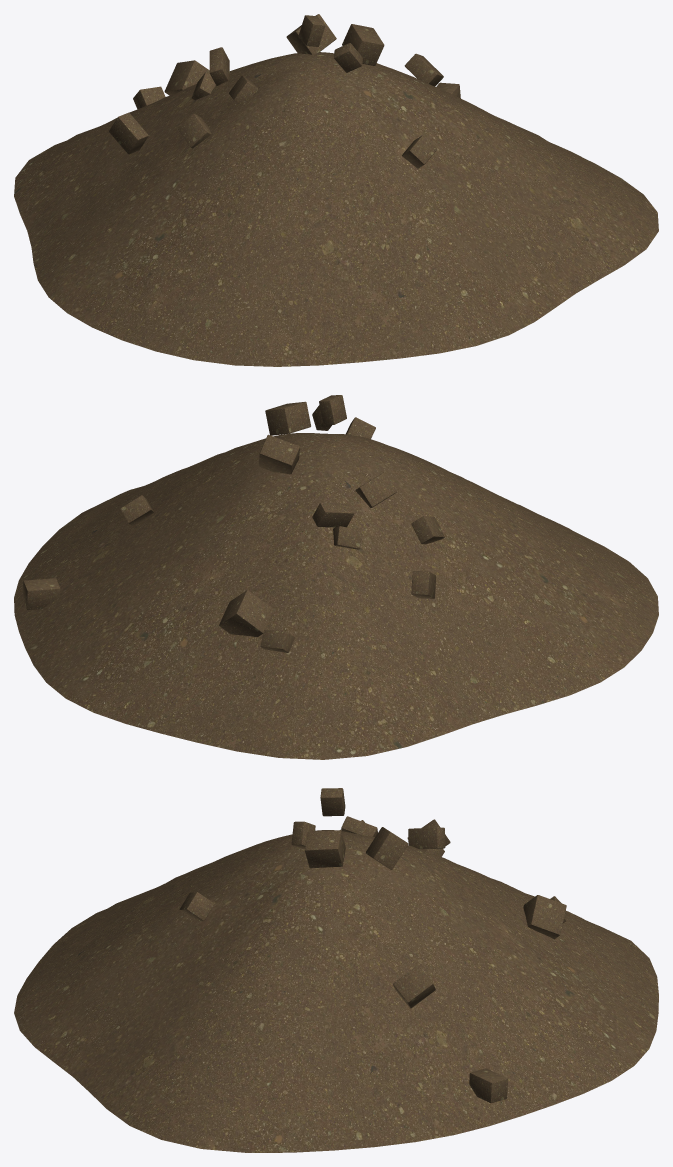
Rendered from TER-SOL-004.glb.
The picture shows the model from 3 angles, top to bottom: view 1: azimuth 30°, elevation 25°; view 2: azimuth 150°, elevation 25°; view 3: azimuth 270°, elevation 25°; orthographic projection. The views are drawn at different scales.
Visible parts, largest first — view 1: TER-SOL-004_monte, TER-SOL-004_caco4, TER-SOL-004_caco3, TER-SOL-004_caco2, TER-SOL-004_caco11, TER-SOL-004_caco6, TER-SOL-004_caco1, TER-SOL-004_caco13, TER-SOL-004_caco5, TER-SOL-004_caco10, TER-SOL-004_caco8, TER-SOL-004_caco0; view 2: TER-SOL-004_monte, TER-SOL-004_caco2, TER-SOL-004_caco6, TER-SOL-004_caco4, TER-SOL-004_caco12, TER-SOL-004_caco5, TER-SOL-004_caco0, TER-SOL-004_caco10, TER-SOL-004_caco11, TER-SOL-004_caco3, TER-SOL-004_caco9, TER-SOL-004_caco1 (+1 smaller); view 3: TER-SOL-004_monte, TER-SOL-004_caco4, TER-SOL-004_caco2, TER-SOL-004_caco1, TER-SOL-004_caco12, TER-SOL-004_caco6, TER-SOL-004_caco5, TER-SOL-004_caco13, TER-SOL-004_caco10.
Boxes of the visible parts, x1,y1,x2,y2 form: TER-SOL-004_monte: (14,52,658,366); TER-SOL-004_caco4: (342,24,384,65); TER-SOL-004_caco3: (109,112,148,154); TER-SOL-004_caco2: (164,60,209,95); TER-SOL-004_caco11: (177,113,211,148); TER-SOL-004_caco6: (286,14,336,54); TER-SOL-004_caco1: (404,53,443,86); TER-SOL-004_caco13: (402,135,436,168); TER-SOL-004_caco5: (209,47,229,85); TER-SOL-004_caco10: (298,15,325,46); TER-SOL-004_caco8: (334,43,362,72); TER-SOL-004_caco0: (229,75,258,104); TER-SOL-004_monte: (14,433,658,759); TER-SOL-004_caco2: (219,590,273,636); TER-SOL-004_caco6: (258,434,299,474); TER-SOL-004_caco4: (265,401,310,435); TER-SOL-004_caco12: (22,578,60,609); TER-SOL-004_caco5: (312,502,354,527); TER-SOL-004_caco0: (355,472,396,507); TER-SOL-004_caco10: (319,395,346,424); TER-SOL-004_caco11: (411,516,444,544); TER-SOL-004_caco3: (411,571,436,598); TER-SOL-004_caco9: (260,629,294,652); TER-SOL-004_caco1: (120,495,153,526); TER-SOL-004_monte: (14,830,658,1152); TER-SOL-004_caco4: (304,830,345,868); TER-SOL-004_caco2: (523,895,566,939); TER-SOL-004_caco1: (393,965,435,1008); TER-SOL-004_caco12: (469,1068,507,1102); TER-SOL-004_caco6: (366,827,408,869); TER-SOL-004_caco5: (408,827,445,849); TER-SOL-004_caco13: (179,892,214,921); TER-SOL-004_caco10: (320,788,345,816).
Bounding box in the file's own units: 1.78 × 0.6626 × 1.76.
1 material, 1 textured.
